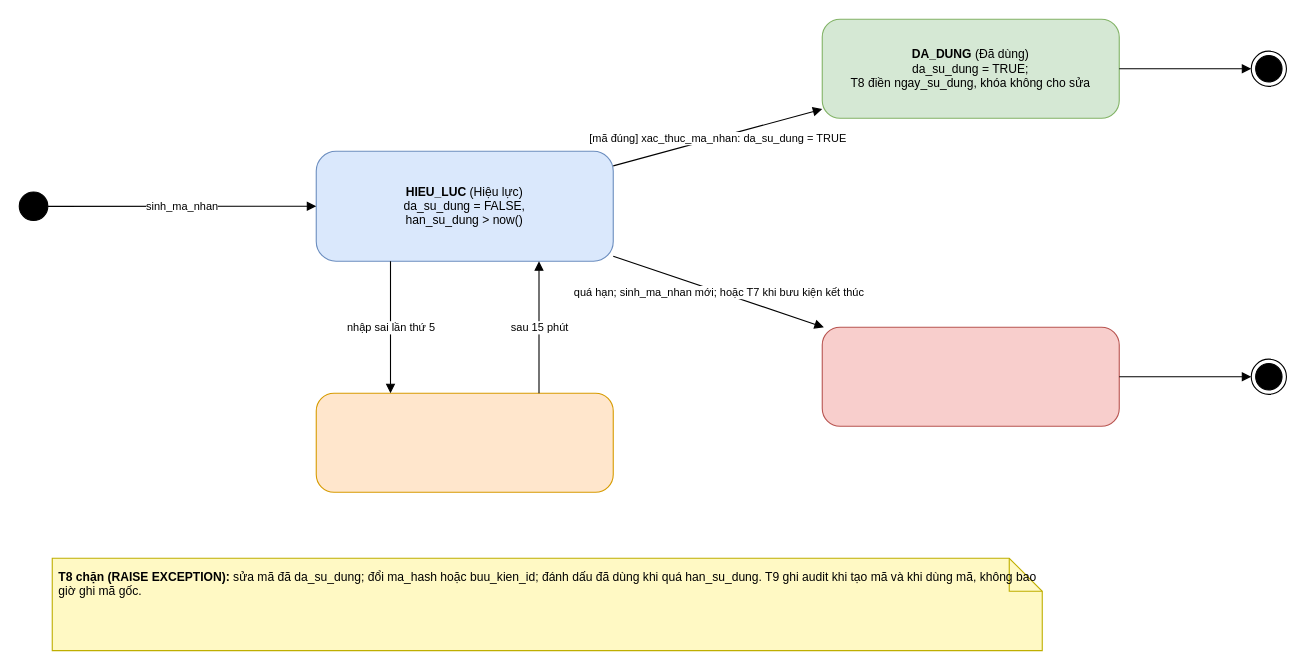
Image size: 1306x670. Some labels were removed from this diagram. The shapes that lost their labels are listed below. From the top down, each one's box as (x1, y1, x2, y2) in pixels, then its label:
(821, 326, 1119, 426): VO_HIEU_HET_HAN (Vô hiệu / hết hạn) han_su_dung ≤ now()
(315, 392, 613, 492): TAM_KHOA_NHAP (Tạm khóa nhập mã) từ 5 lần NHAP_MA_NHAN_THAT_BAI trong 15 phút
